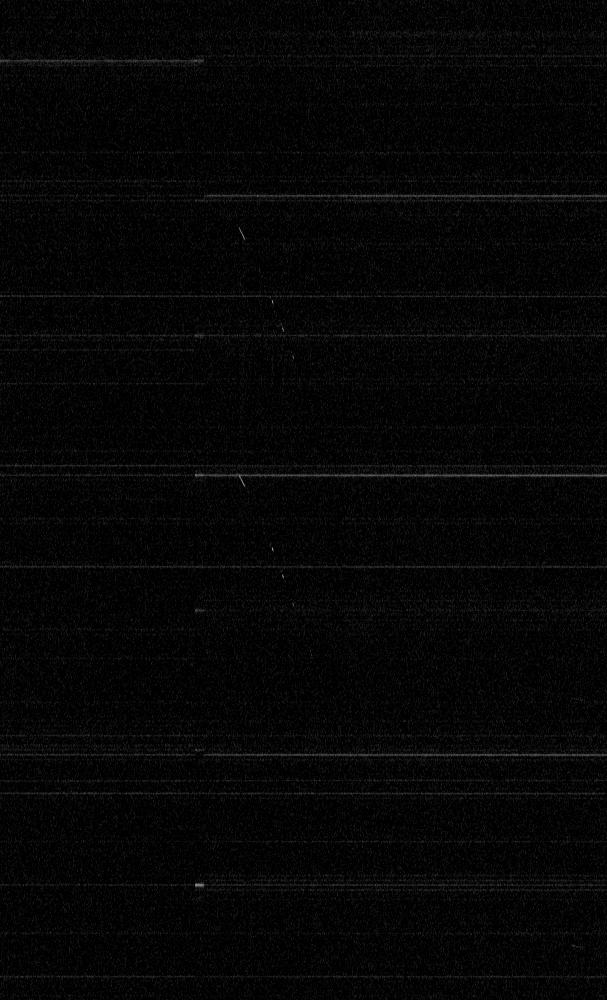signal: (0, 0, 606, 999)
